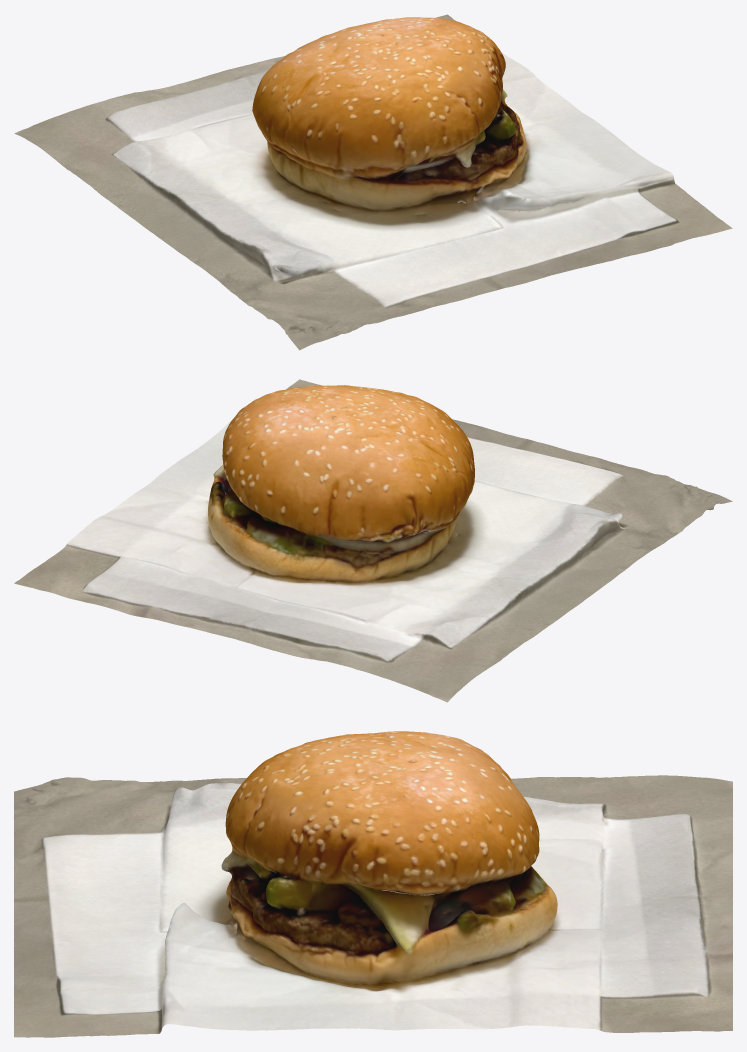
The model's file is burger_kings_avocado_whopper.glb.
The picture shows the model from 3 angles, top to bottom: view 1: azimuth 30°, elevation 25°; view 2: azimuth 150°, elevation 25°; view 3: azimuth 270°, elevation 25°; orthographic projection. The views are drawn at different scales.
Parts seen in each view (by area): view 1: model_1; view 2: model_1; view 3: model_1.
Part boxes in pixels (left/top/right/bottom): model_1: left=14, top=14, right=732, bottom=350; model_1: left=14, top=379, right=732, bottom=702; model_1: left=14, top=731, right=732, bottom=1037.
Bounding box in the file's own units: 3.45 × 1.09 × 3.93.
2 materials, 2 textured.
